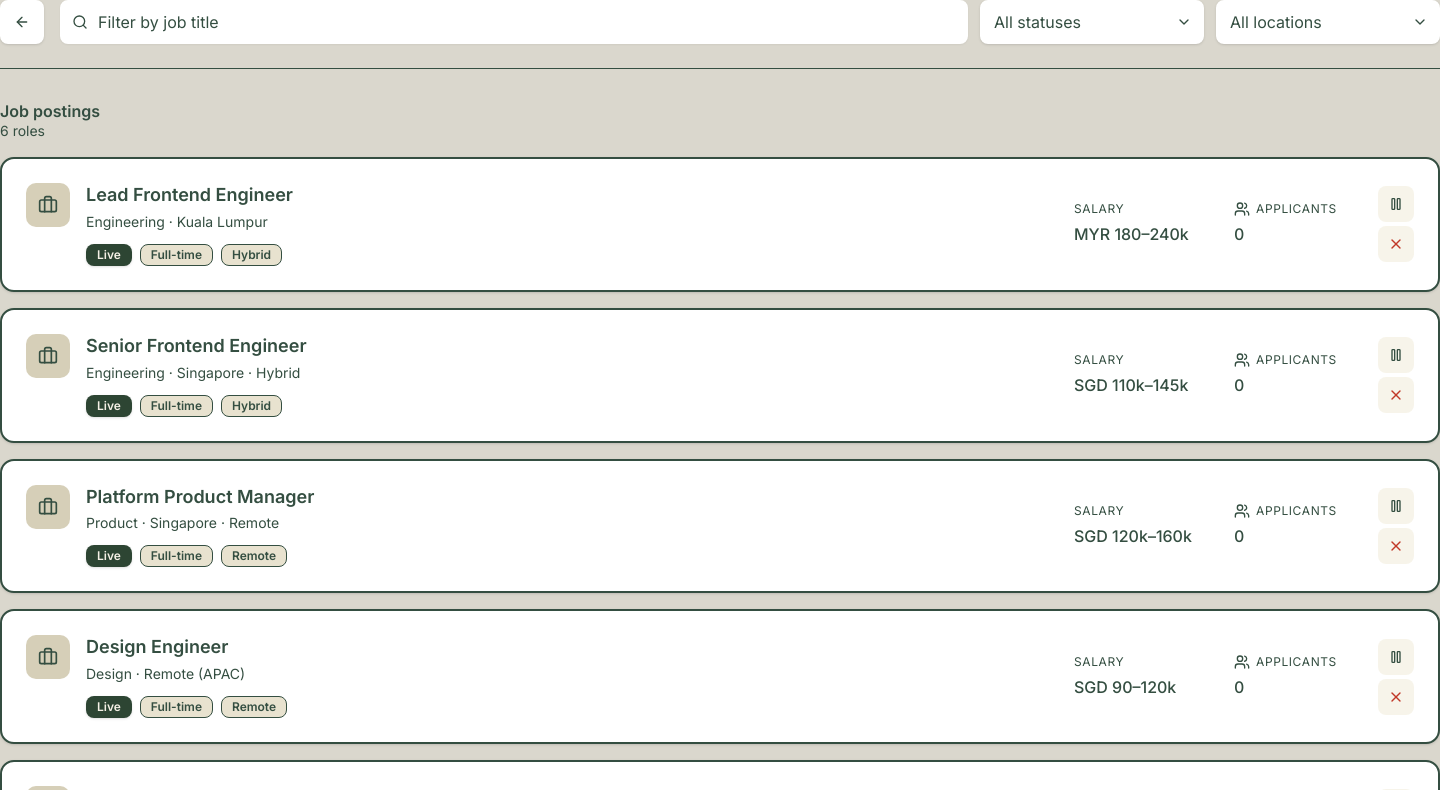
Test: AllJobsManagement › shows an unrestricted complete list and filters it by search
Expected: the heading "Senior Frontend Engineer" is shown, [86, 334, 306, 359]
Expected: the heading "Platform Product Manager" is shown, [86, 484, 314, 509]
Type "Platform Product" into the field named "Search jobs" at [514, 22], box [60, 0, 968, 44]
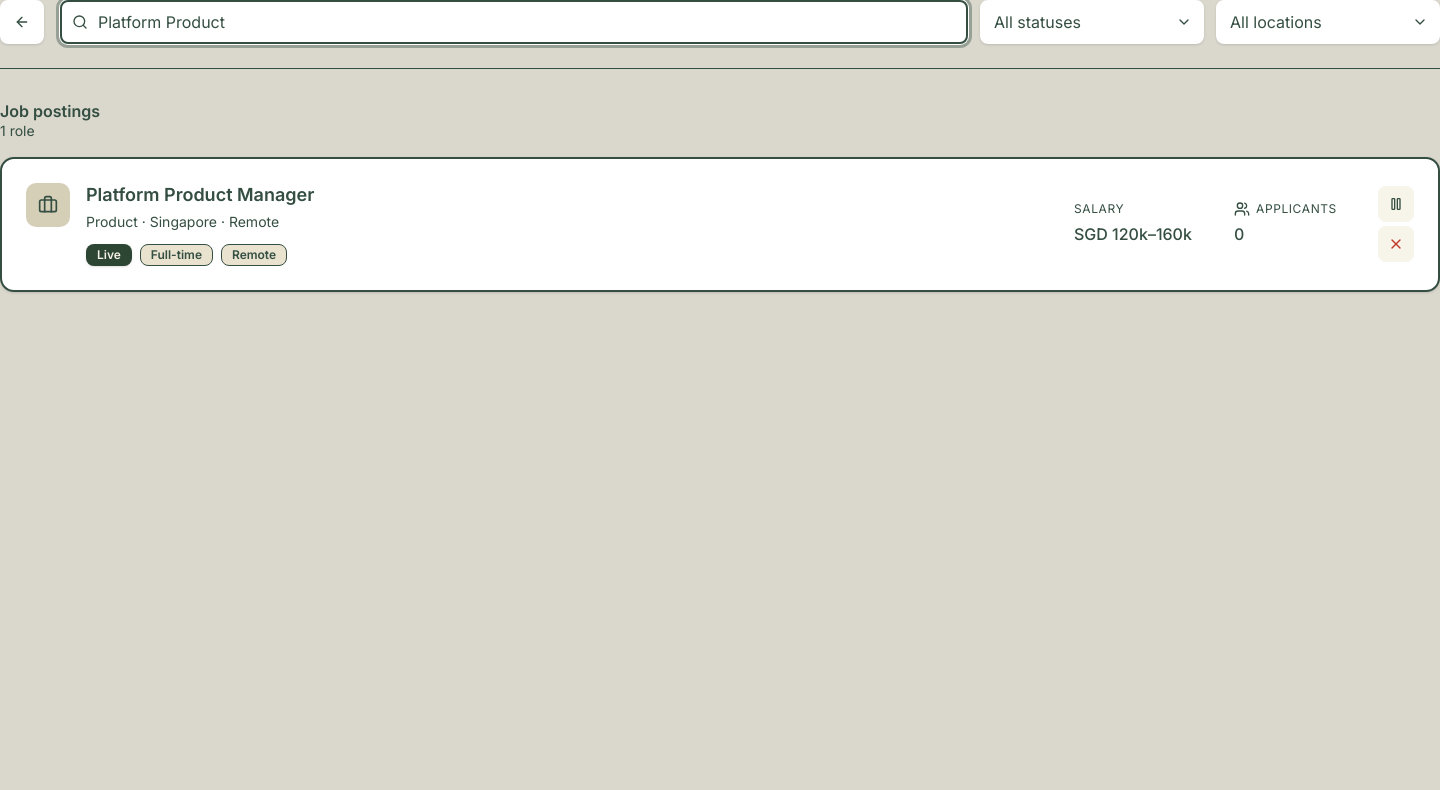
Expected: the heading "Platform Product Manager" is shown, [86, 183, 314, 208]
Now the heading "Senior Frontend Engineer" is gone
